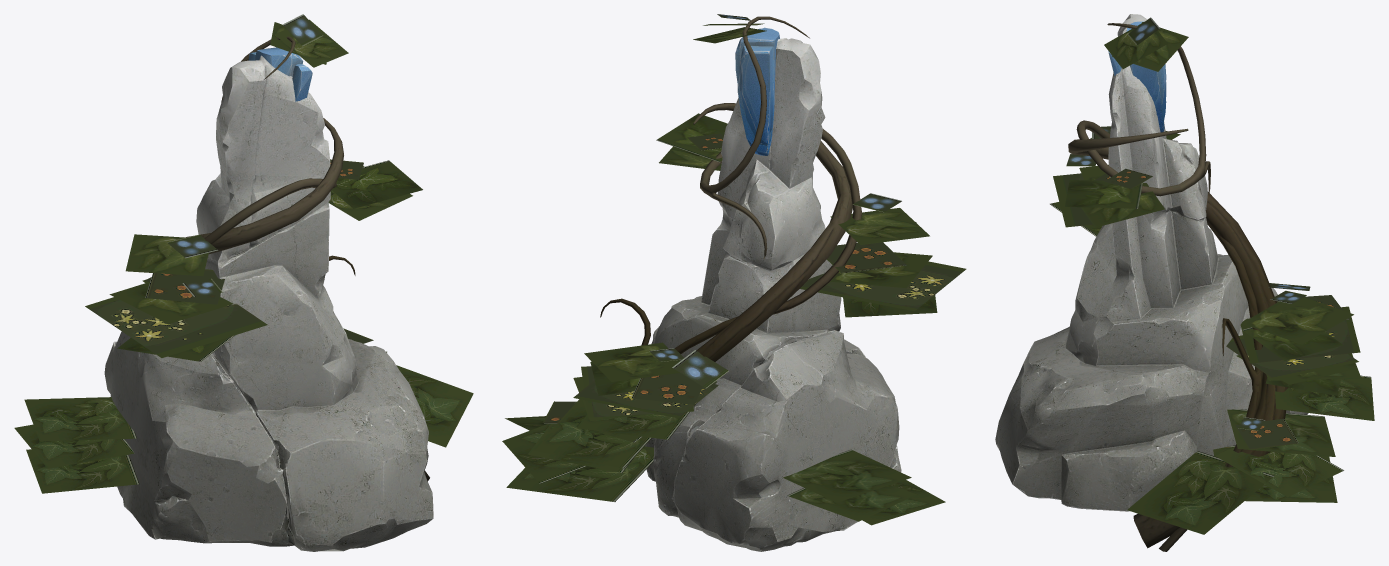
The model's file is radiant_statue002.fbx.
3 views of the same model, side by side, from view 1: azimuth 30°, elevation 25°; view 2: azimuth 150°, elevation 25°; view 3: azimuth 270°, elevation 25° (orthographic). The views are drawn at different scales.
Visible parts, largest first — view 1: radiant_statue002; view 2: radiant_statue002; view 3: radiant_statue002.
Part boxes in pixels (bbox=[...]): radiant_statue002: bbox=[14, 14, 473, 551]; radiant_statue002: bbox=[502, 14, 966, 551]; radiant_statue002: bbox=[995, 14, 1374, 551].
Bounding box in the file's own units: 27682 × 30062 × 21880.
